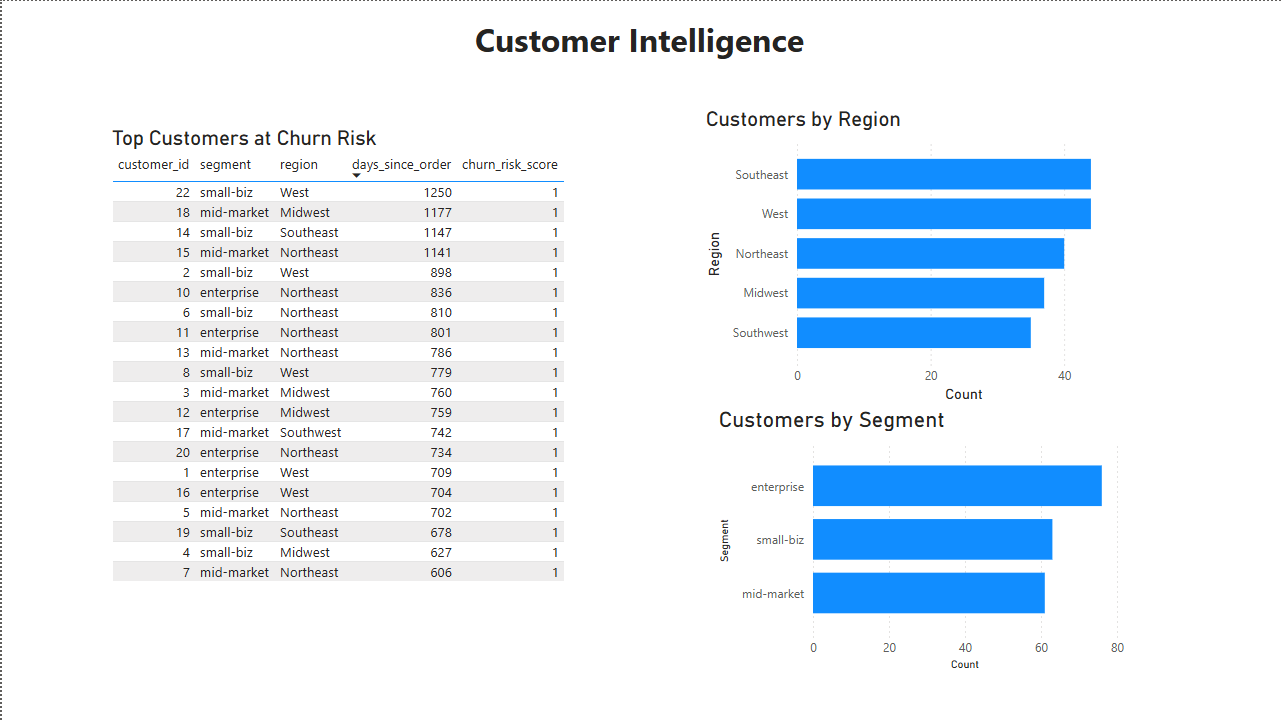

The dashboard page shown, as its layout file describes it:
{"tool":"powerbi","page":{"name":"Customer Intelligence","canvas":[1280,720],"ordinal":2},"visuals":[{"type":"textbox","box":[468,11,343,57],"z":0},{"type":"barChart","title":"Customers by Segment","fields":{"Category":["customers.segment"],"Y":["CountNonNull(customers.customer_id)"]},"box":[712,406,415,268],"z":1000},{"type":"barChart","title":"Customers by Region","fields":{"Category":["customers.region"],"Y":["CountNonNull(customers.customer_id)"]},"box":[699,106,442,300],"z":2000},{"type":"tableEx","title":"Top Customers at Churn Risk","fields":{"Values":["churn_risk_customers.customer_id","churn_risk_customers.segment","churn_risk_customers.region","churn_risk_customers.days_since_order","churn_risk_customers.churn_risk_score"]},"box":[105,125,466,470],"z":3000}]}

Visuals, with their boxes in screenshot pixels (x1, y1, x2, y2), scaled from the page's 1280x720 canvas onto the 1281x721 screenshot:
textbox: left=468, top=11, right=812, bottom=68
"Customers by Segment" barChart: left=713, top=407, right=1128, bottom=675
"Customers by Region" barChart: left=700, top=106, right=1142, bottom=407
"Top Customers at Churn Risk" tableEx: left=105, top=125, right=571, bottom=596
